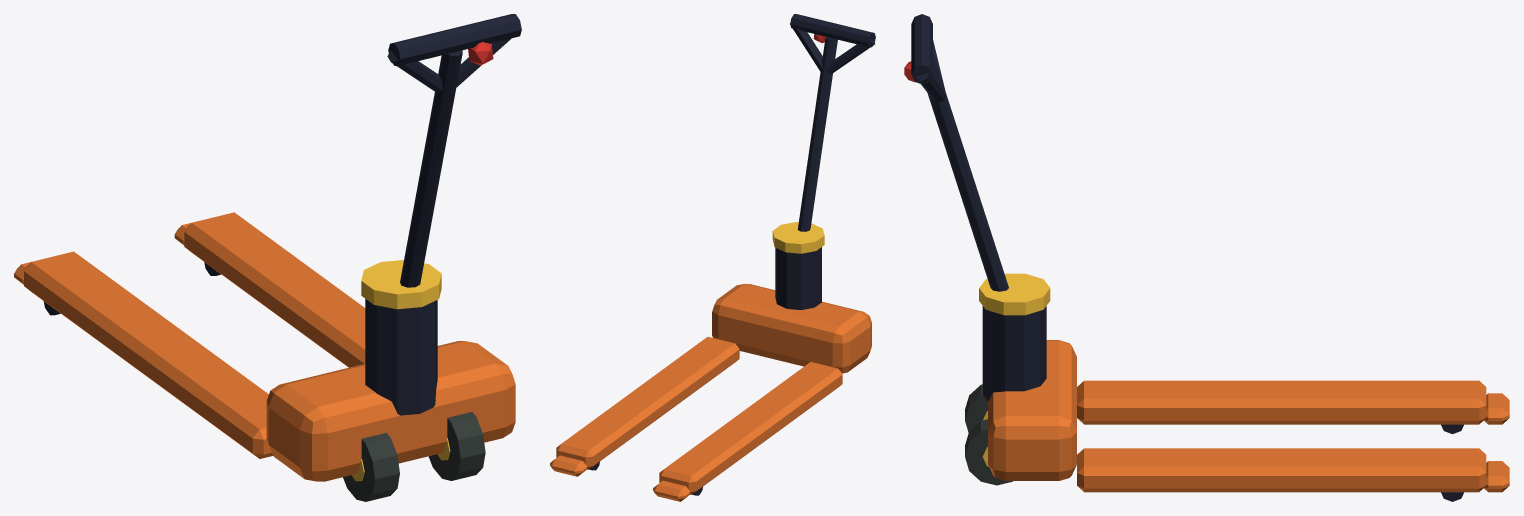
Rendered from sm_env_depot_pallet_jack.glb.
3 views of the same model, side by side, from view 1: azimuth 30°, elevation 25°; view 2: azimuth 150°, elevation 25°; view 3: azimuth 270°, elevation 25° (orthographic). The views are drawn at different scales.
Parts seen in each view (by area): view 1: Chassis, Fork, Fork.001, PumpBody, Handle, HandleBar, PumpCap, SteerWheel, SteerWheel.001, HandleSide; view 2: Chassis, Fork.001, Fork, PumpBody, Handle, HandleBar, PumpCap, ForkTip.001, ForkTip, HandleSide, HandleSide.001; view 3: Fork, Fork.001, Chassis, PumpBody, Handle, PumpCap, HandleBar, SteerWheel.001, ForkTip.001, ForkTip, SteerWheel.
Part boxes in pixels (bbox=[...]): Chassis: bbox=[266, 341, 515, 481]; Fork: bbox=[24, 251, 273, 458]; Fork.001: bbox=[184, 212, 365, 367]; PumpBody: bbox=[365, 299, 437, 415]; Handle: bbox=[400, 50, 462, 287]; HandleBar: bbox=[388, 14, 521, 65]; PumpCap: bbox=[361, 260, 441, 309]; SteerWheel: bbox=[343, 432, 399, 501]; SteerWheel.001: bbox=[428, 412, 485, 480]; HandleSide: bbox=[387, 50, 442, 93]; Chassis: bbox=[712, 283, 871, 373]; Fork.001: bbox=[556, 336, 739, 469]; Fork: bbox=[659, 362, 842, 494]; PumpBody: bbox=[775, 247, 821, 309]; Handle: bbox=[797, 37, 837, 231]; HandleBar: bbox=[790, 14, 875, 47]; PumpCap: bbox=[772, 222, 824, 253]; ForkTip.001: bbox=[550, 455, 587, 476]; ForkTip: bbox=[653, 480, 690, 501]; HandleSide: bbox=[824, 40, 875, 73]; HandleSide.001: bbox=[790, 23, 823, 71]; Fork: bbox=[1077, 380, 1486, 424]; Fork.001: bbox=[1077, 448, 1486, 492]; Chassis: bbox=[988, 340, 1076, 480]; PumpBody: bbox=[982, 306, 1046, 400]; Handle: bbox=[927, 56, 1008, 291]; PumpCap: bbox=[979, 273, 1050, 315]; HandleBar: bbox=[911, 14, 932, 84]; SteerWheel.001: bbox=[965, 419, 1012, 485]; ForkTip.001: bbox=[1484, 461, 1509, 492]; ForkTip: bbox=[1484, 393, 1509, 424]; SteerWheel: bbox=[965, 384, 987, 432].
Bounding box in the file's own units: 0.61 × 1.31 × 1.7.
